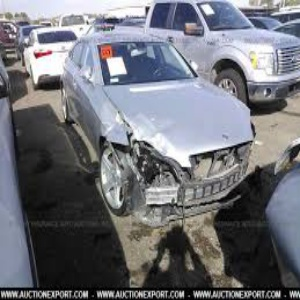bumper: (134, 155, 253, 220)
